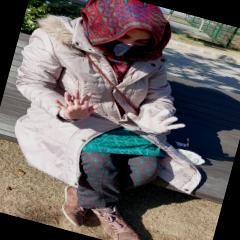gloved: (122, 100, 188, 141)
not-gloved: (52, 84, 102, 125)
